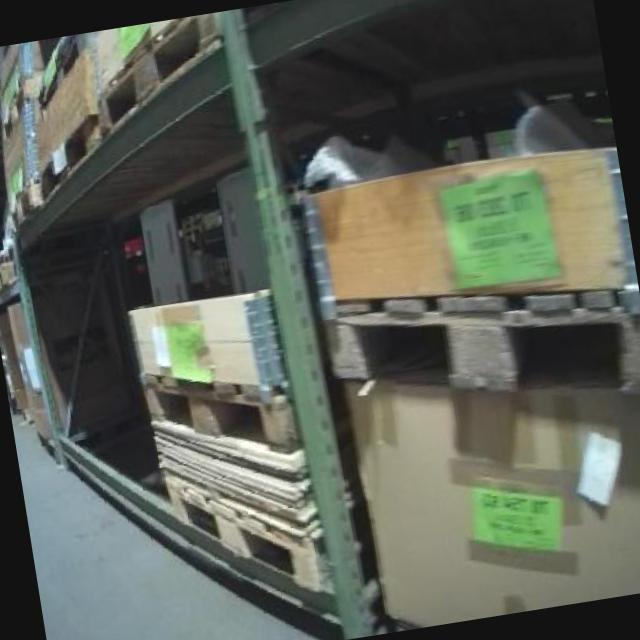pallet: (319, 255, 640, 415), (150, 443, 338, 617), (81, 12, 230, 128), (125, 370, 306, 460)
